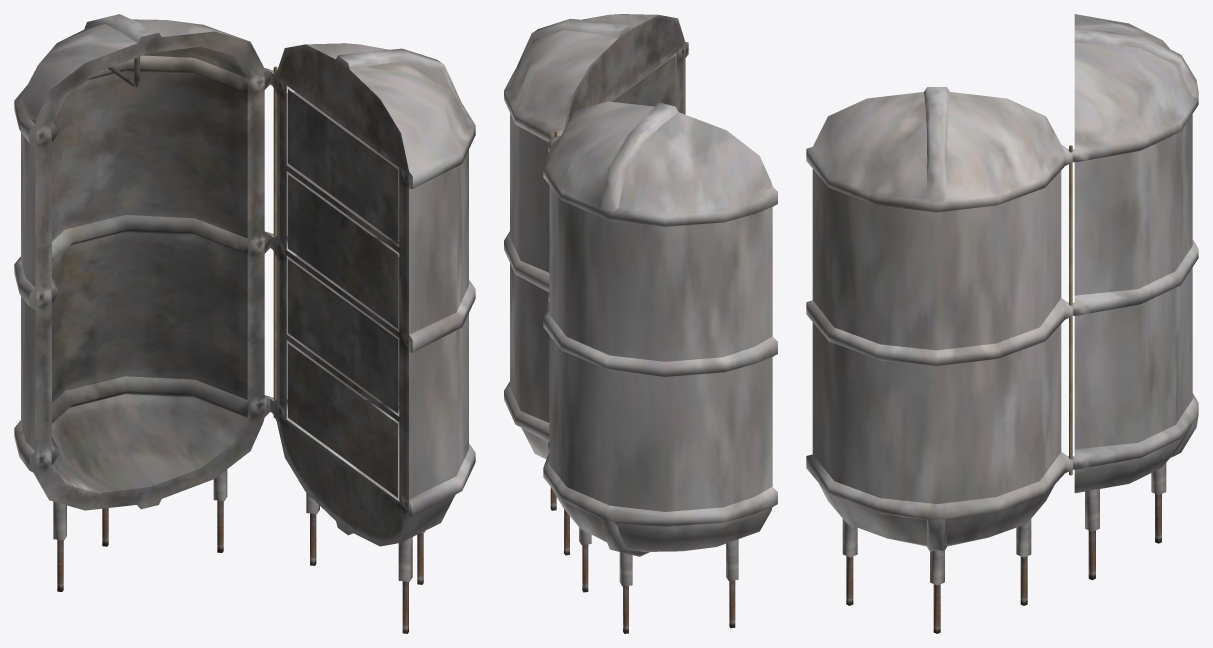
The model's file is eqp_travel_luggage_l1.fbx.
3 views of the same model, side by side, from view 1: azimuth 30°, elevation 25°; view 2: azimuth 150°, elevation 25°; view 3: azimuth 270°, elevation 25° (orthographic). The views are drawn at different scales.
Visible parts, largest first — view 1: mesh_node; view 2: mesh_node; view 3: mesh_node.
Part boxes in pixels (<box>): mesh_node: <box>14,14,475,633</box>; mesh_node: <box>504,14,777,633</box>; mesh_node: <box>806,14,1198,633</box>.
Size of the model in its own units: 0.7924 by 1.16 by 0.8084.
